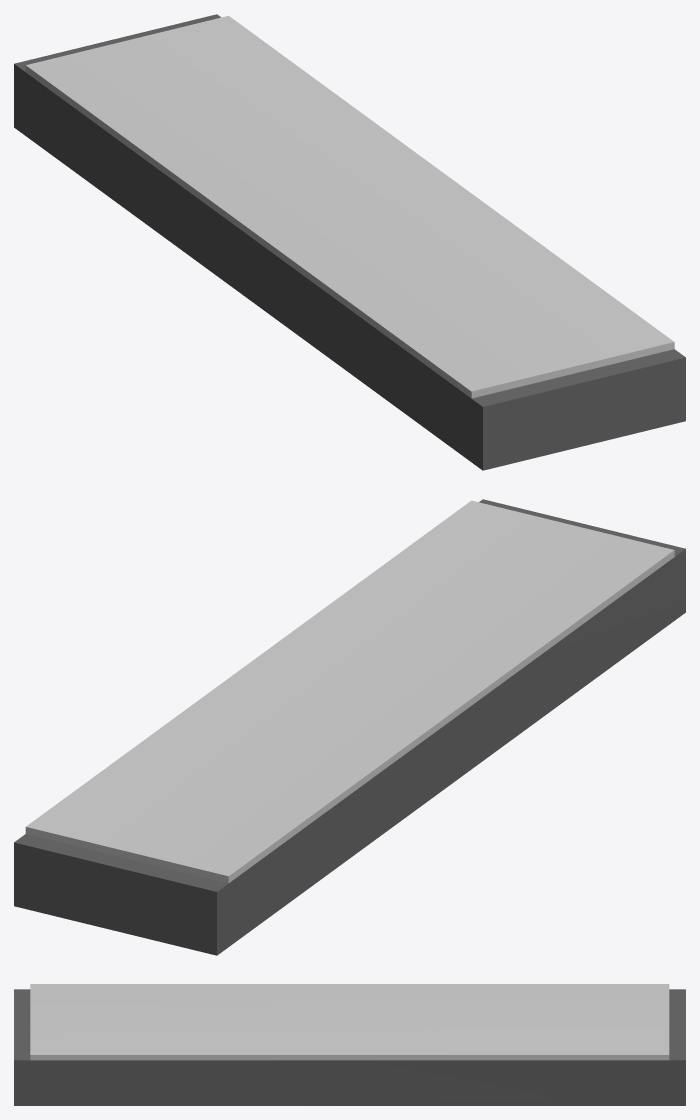
File: StationFloorSmall.fbx
3 views of the same model, one above another, from view 1: azimuth 30°, elevation 25°; view 2: azimuth 150°, elevation 25°; view 3: azimuth 270°, elevation 25° (orthographic). The views are drawn at different scales.
Visible parts, largest first — view 1: Cube.008; view 2: Cube.008; view 3: Cube.008.
Part boxes in pixels (x1,y1,x2,y2): Cube.008: [14, 14, 685, 470]; Cube.008: [14, 499, 685, 955]; Cube.008: [14, 984, 685, 1105].
Size of the model in its own units: 60 by 20 by 240.
